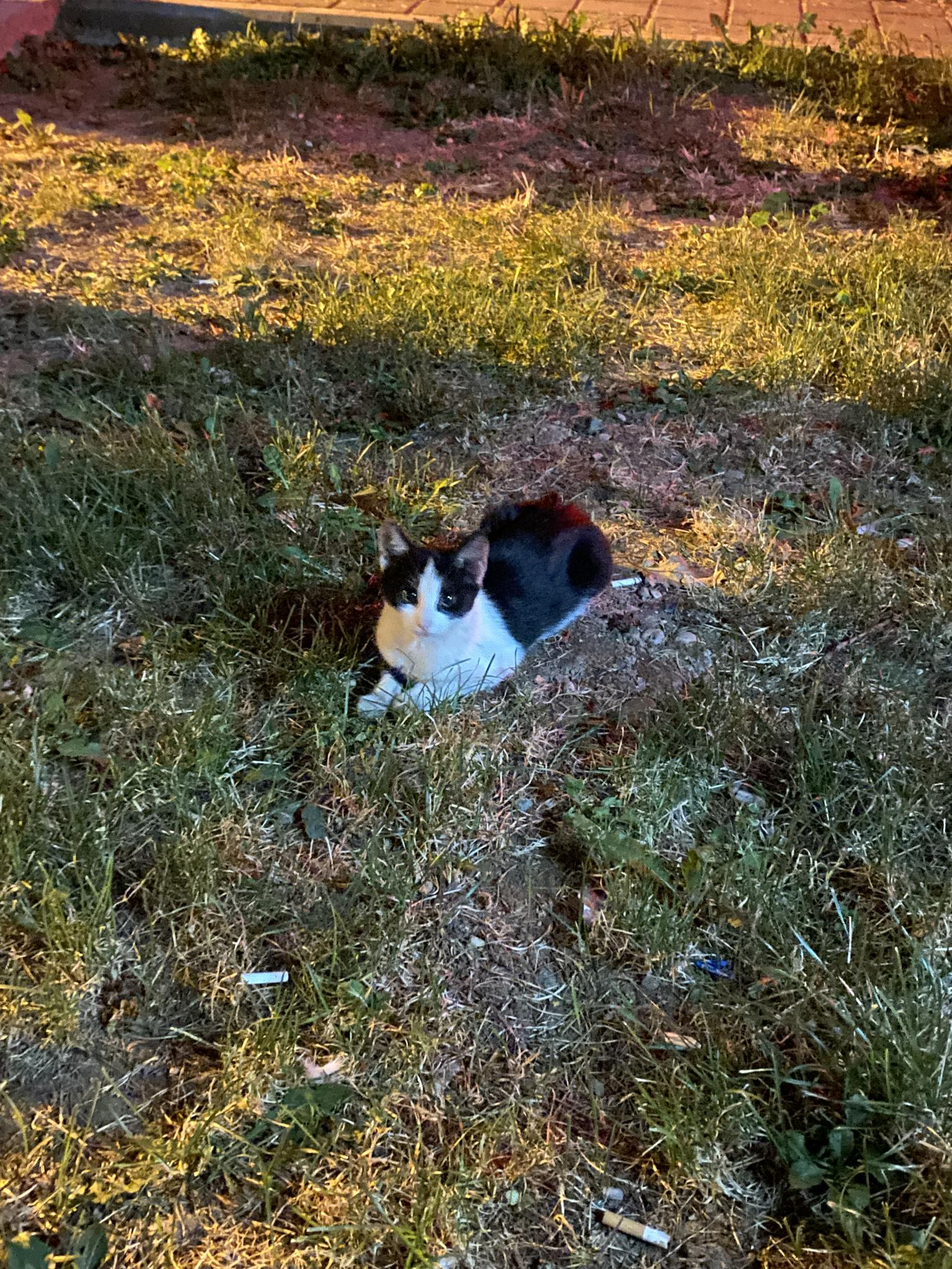macka: (351, 489, 613, 722)
